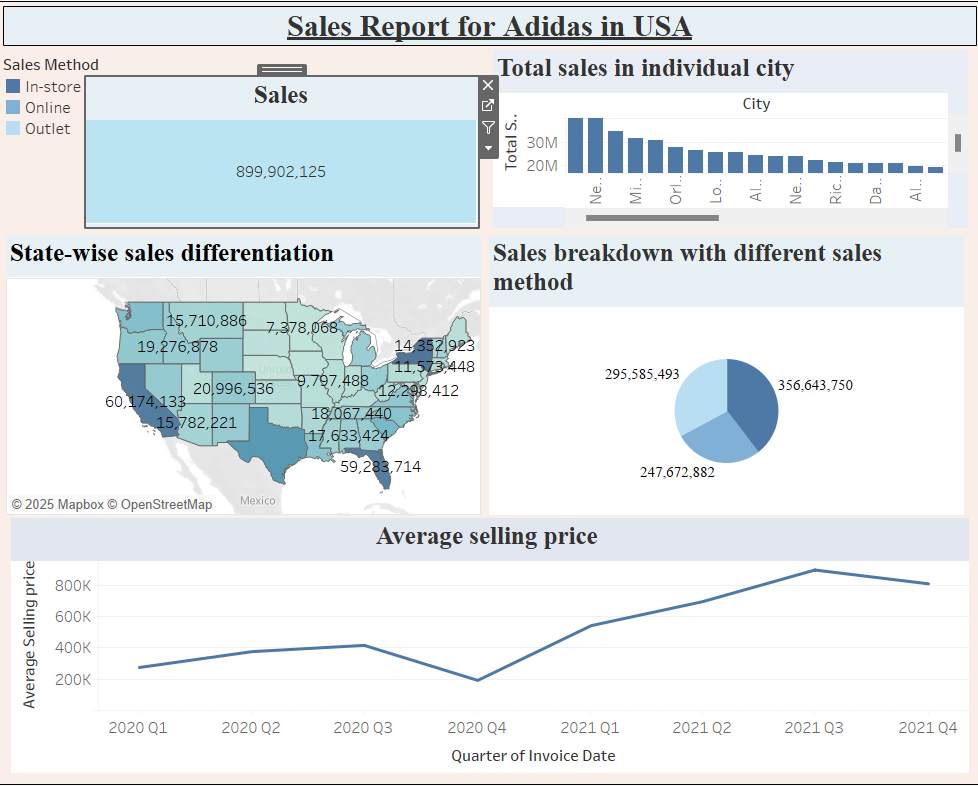

The dashboard page shown, as its layout file describes it:
{"tool":"tableau","page":{"name":"sales report dashboard","canvas":[1000,800],"ordinal":0},"visuals":[{"type":"title","box":[9,9,982,48]},{"type":"legend","title":"sales method","param":"[federated.0zhrw9x0l73da21chfpno11u3e81].[none:Sales Method:nk]","box":[9,57,982,734]},{"type":"worksheet","title":"sales in city ","mark":"Automatic","rows":["Total Sales"],"cols":["City"],"box":[503,57,475,178]},{"type":"worksheet","title":"Sales KPI","mark":"Automatic","box":[96,84,392,150]},{"type":"worksheet","title":"State-wise sales distribution","mark":"Automatic","box":[16,242,475,280]},{"type":"worksheet","title":"sales method","mark":"Pie","box":[499,242,475,280]},{"type":"worksheet","title":"Average selling price","mark":"Automatic","rows":["Calculation_1499135729192906752"],"cols":["Invoice Date"],"box":[11,515,978,275]}]}

Visuals, with their boxes in screenshot pixels (x1, y1, x2, y2), scaled from the page's 1000x800 canvas onto the 978x786 screenshot:
title: 9:9:969:56
"sales method" legend: 9:56:969:777
"sales in city " worksheet: 492:56:956:231
"Sales KPI" worksheet: 94:83:477:230
"State-wise sales distribution" worksheet: 16:238:480:513
"sales method" worksheet (Pie marks): 488:238:953:513
"Average selling price" worksheet: 11:506:967:776
